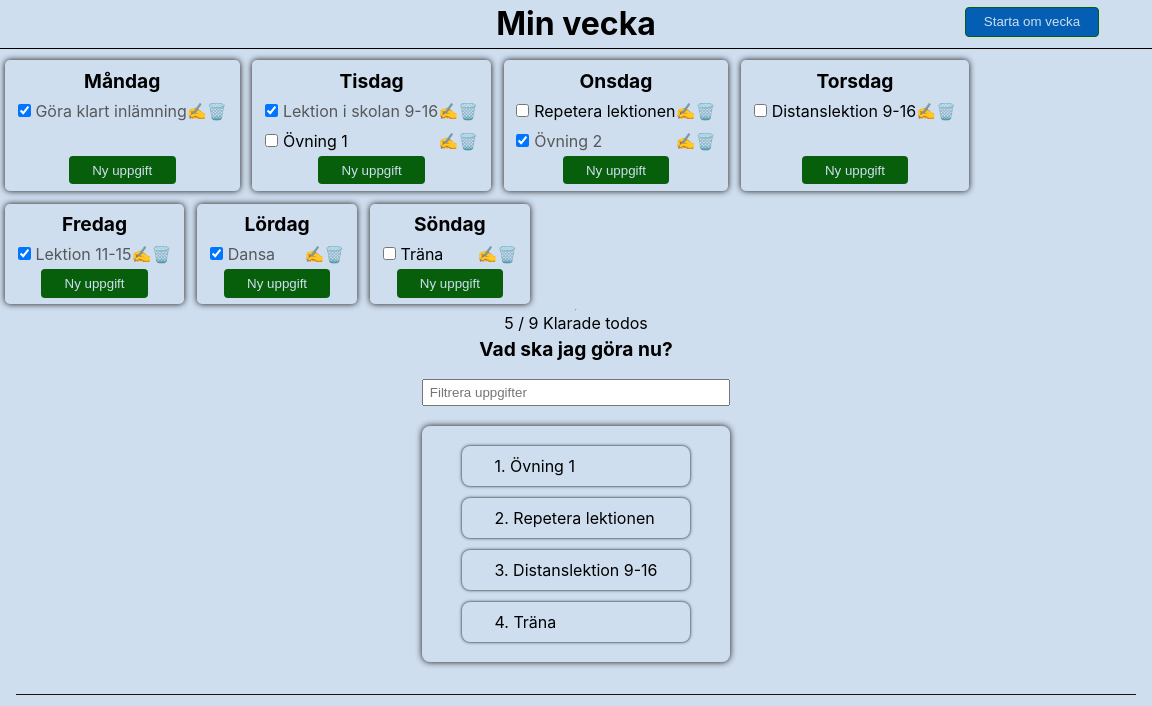
Test: restart all todo of the weekend, when push restart button › should show how many todos you have done ant the total todos you have
Click the checkbox next to "Göra klart inlämning".
click(25, 111)  # box [18,104,31,117]
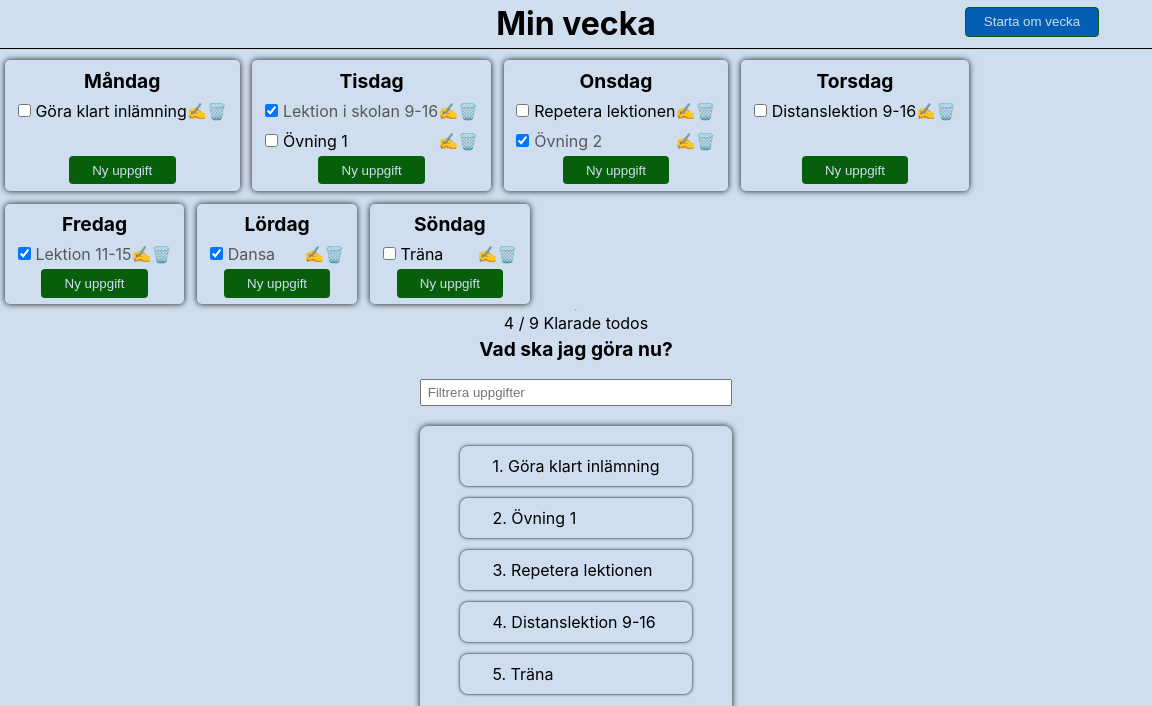
Expected: the text "4 / 9" is shown, [504,311,648,335]
Click the checkbox below "Söndag".
click(390, 254)  # box [383,247,396,260]
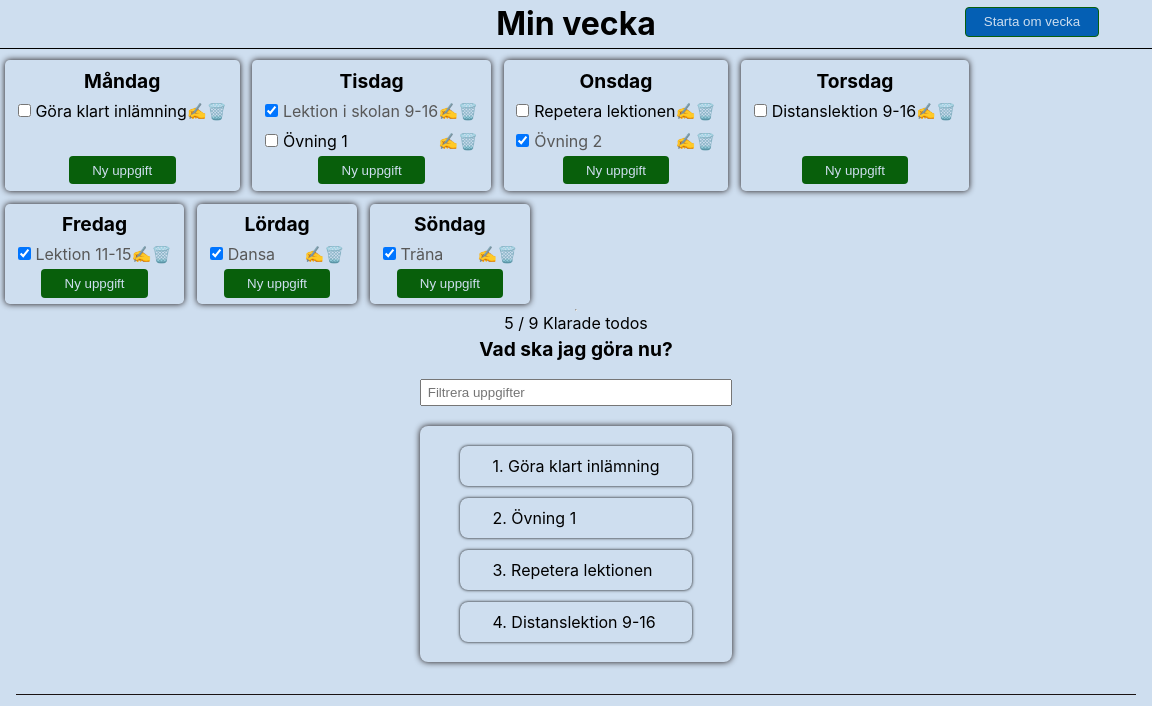
Expected: the text "5 / 9" is shown, [504,311,647,335]
Click the button with test id "restart-btn".
click(1032, 22)  # box [965,7,1098,37]
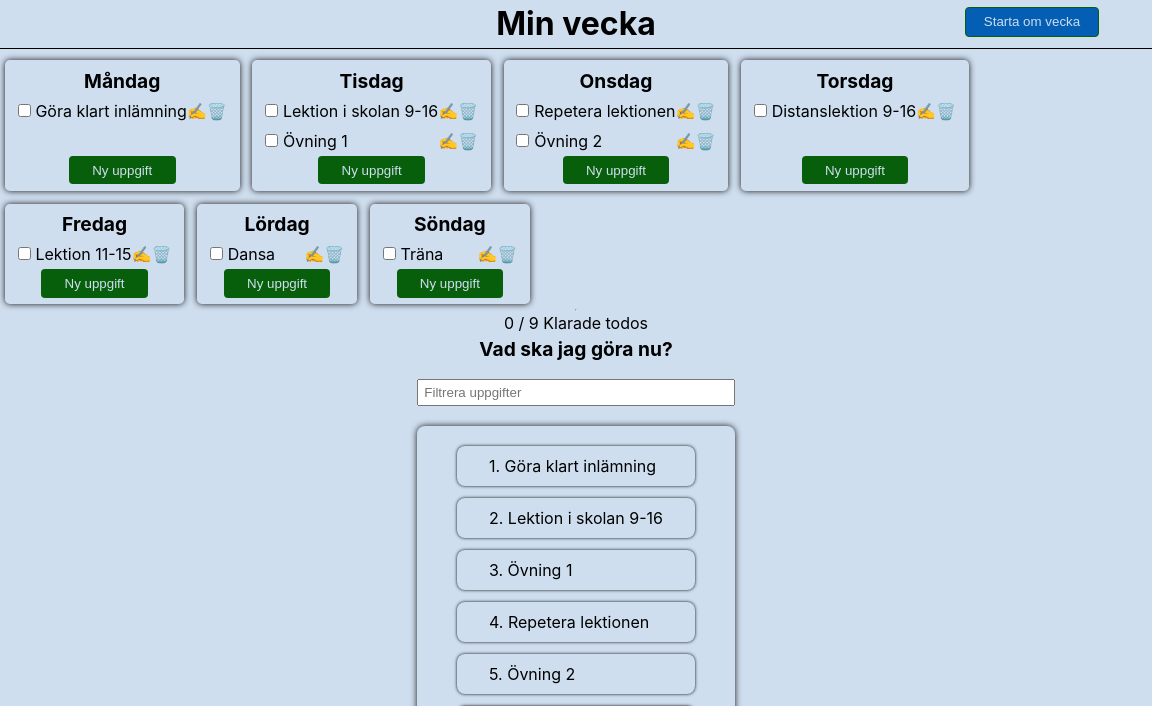
Expected: the text "0 / 9" is shown, [504,311,648,335]
